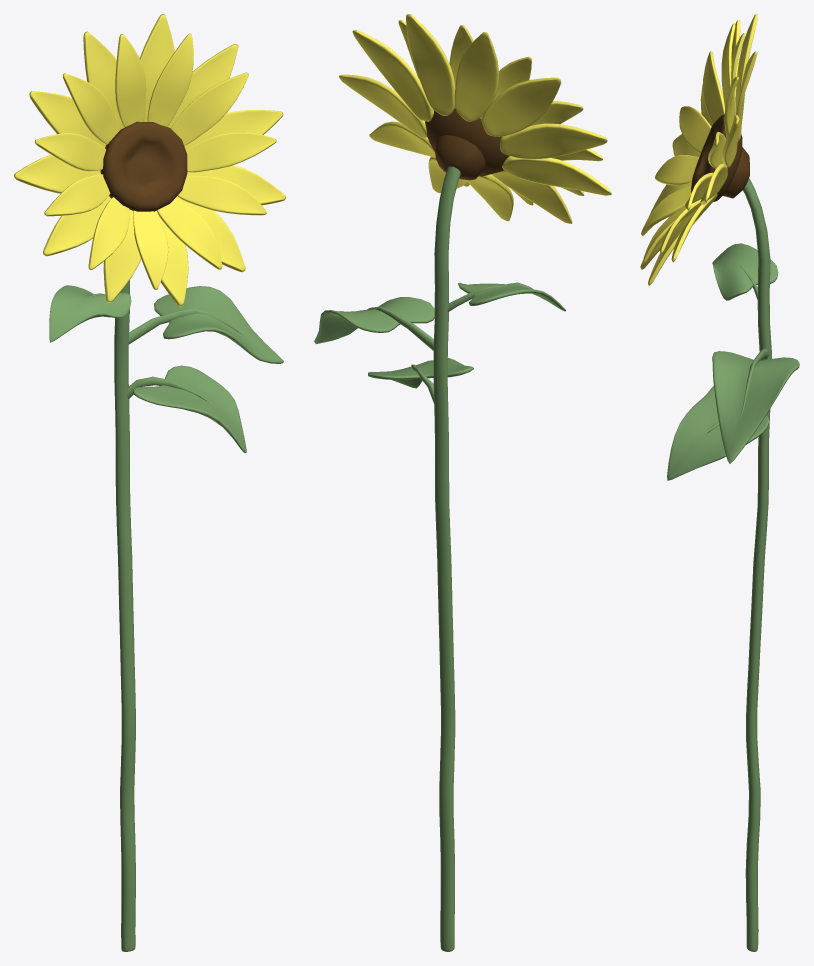
File: Yellow_Sunflower_Model.fbx
3 views of the same model, side by side, from view 1: azimuth 30°, elevation 25°; view 2: azimuth 150°, elevation 25°; view 3: azimuth 270°, elevation 25° (orthographic).
Parts seen in each view (by area): view 1: BigStem, Sunflower_Mid, Leaf_2, Leaf_1, Leaf_3, pCube88, pCube93, pCube87, pCube92, pCube99, pCube91, pCube53 (+16 smaller); view 2: BigStem, Sunflower_Mid, pCube80, pCube97, Leaf_2, pCube82, pCube79, pCube84, pCube83, pCube98, pCube94, pCube81 (+6 smaller); view 3: BigStem, Leaf_2, Leaf_1, Leaf_3, Sunflower_Mid, pCube86, pCube90, pCube89, pCube95, pCube53, pCube97, pCube85 (+9 smaller).
Boxes of the visible parts, x1=… form: BigStem: x1=114, y1=280, x2=135, y2=951; Sunflower_Mid: x1=100, y1=121, x2=187, y2=211; Leaf_2: x1=154, y1=286, x2=283, y2=363; Leaf_1: x1=132, y1=365, x2=246, y2=453; Leaf_3: x1=49, y1=285, x2=131, y2=342; pCube88: x1=185, y1=132, x2=276, y2=172; pCube93: x1=171, y1=72, x2=248, y2=145; pCube87: x1=147, y1=33, x2=193, y2=126; pCube92: x1=177, y1=175, x2=266, y2=215; pCube99: x1=115, y1=34, x2=146, y2=127; pCube91: x1=157, y1=199, x2=222, y2=269; pCube53: x1=63, y1=73, x2=120, y2=144; BigStem: x1=433, y1=166, x2=460, y2=951; Sunflower_Mid: x1=425, y1=108, x2=509, y2=180; pCube80: x1=481, y1=77, x2=561, y2=136; pCube97: x1=454, y1=32, x2=498, y2=121; Leaf_2: x1=314, y1=297, x2=434, y2=343; pCube82: x1=406, y1=14, x2=455, y2=115; pCube79: x1=500, y1=123, x2=607, y2=159; pCube84: x1=352, y1=30, x2=433, y2=121; pCube83: x1=502, y1=156, x2=611, y2=195; pCube98: x1=339, y1=74, x2=426, y2=137; pCube94: x1=491, y1=170, x2=572, y2=223; pCube81: x1=369, y1=121, x2=435, y2=157; BigStem: x1=742, y1=178, x2=771, y2=951; Leaf_2: x1=712, y1=351, x2=799, y2=463; Leaf_1: x1=667, y1=386, x2=768, y2=480; Leaf_3: x1=712, y1=243, x2=778, y2=300; Sunflower_Mid: x1=691, y1=114, x2=749, y2=201; pCube86: x1=679, y1=106, x2=711, y2=152; pCube90: x1=703, y1=51, x2=724, y2=123; pCube89: x1=655, y1=154, x2=699, y2=185; pCube95: x1=641, y1=185, x2=691, y2=235; pCube53: x1=721, y1=23, x2=735, y2=108; pCube97: x1=735, y1=14, x2=757, y2=109; pCube85: x1=648, y1=208, x2=702, y2=285.
Size of the model in its own units: 3.82 by 12.02 by 1.89.
